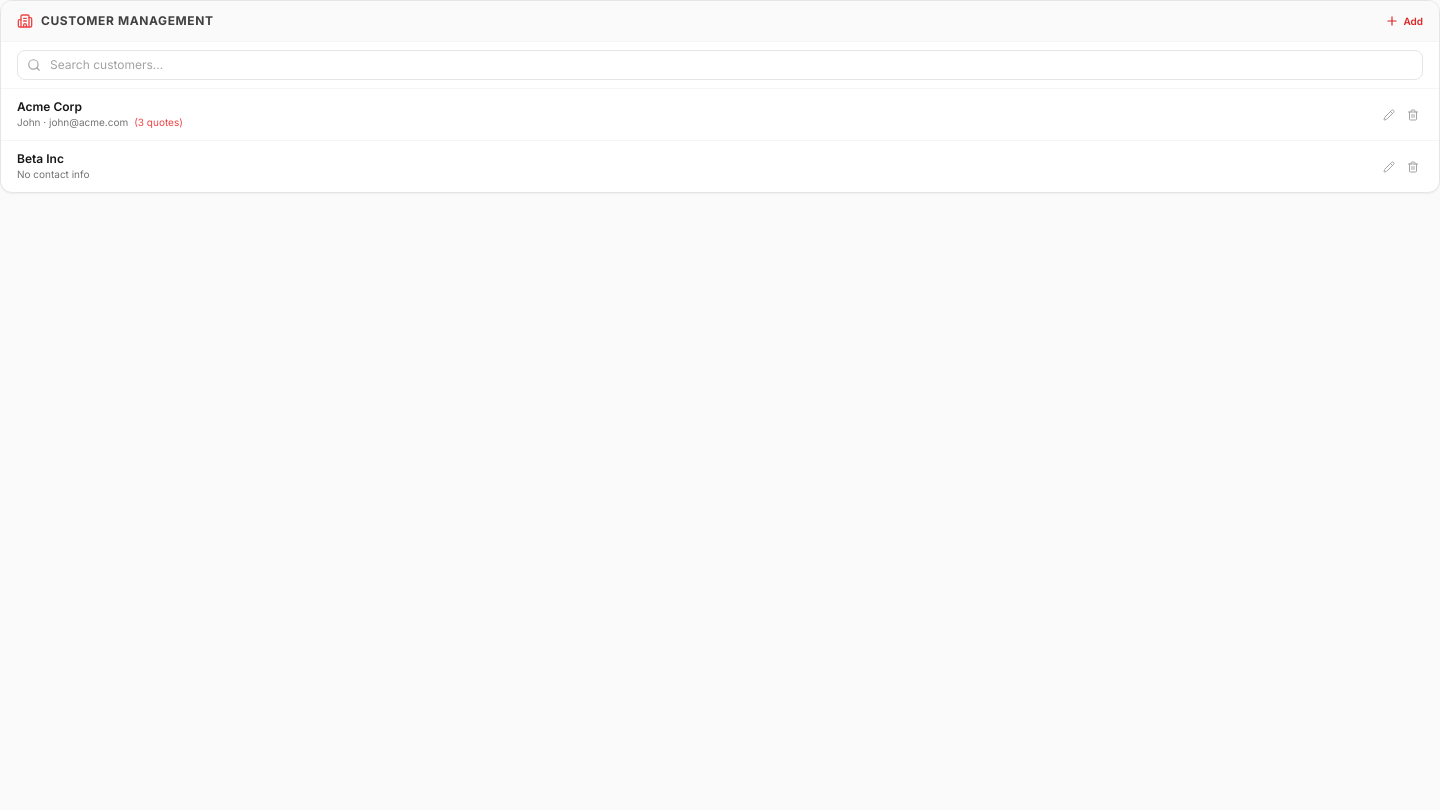
Scenario: CustomerManagement › displays error when delete fails
The width and height of the screenshot is (1440, 810).
Expected: the text "Acme Corp" is shown, [17,99,82,114]
Click delete to open confirm dialog
Click the button named "Delete Acme Corp" at {"x": 1413, "y": 114}, box [1403,104,1423,124]
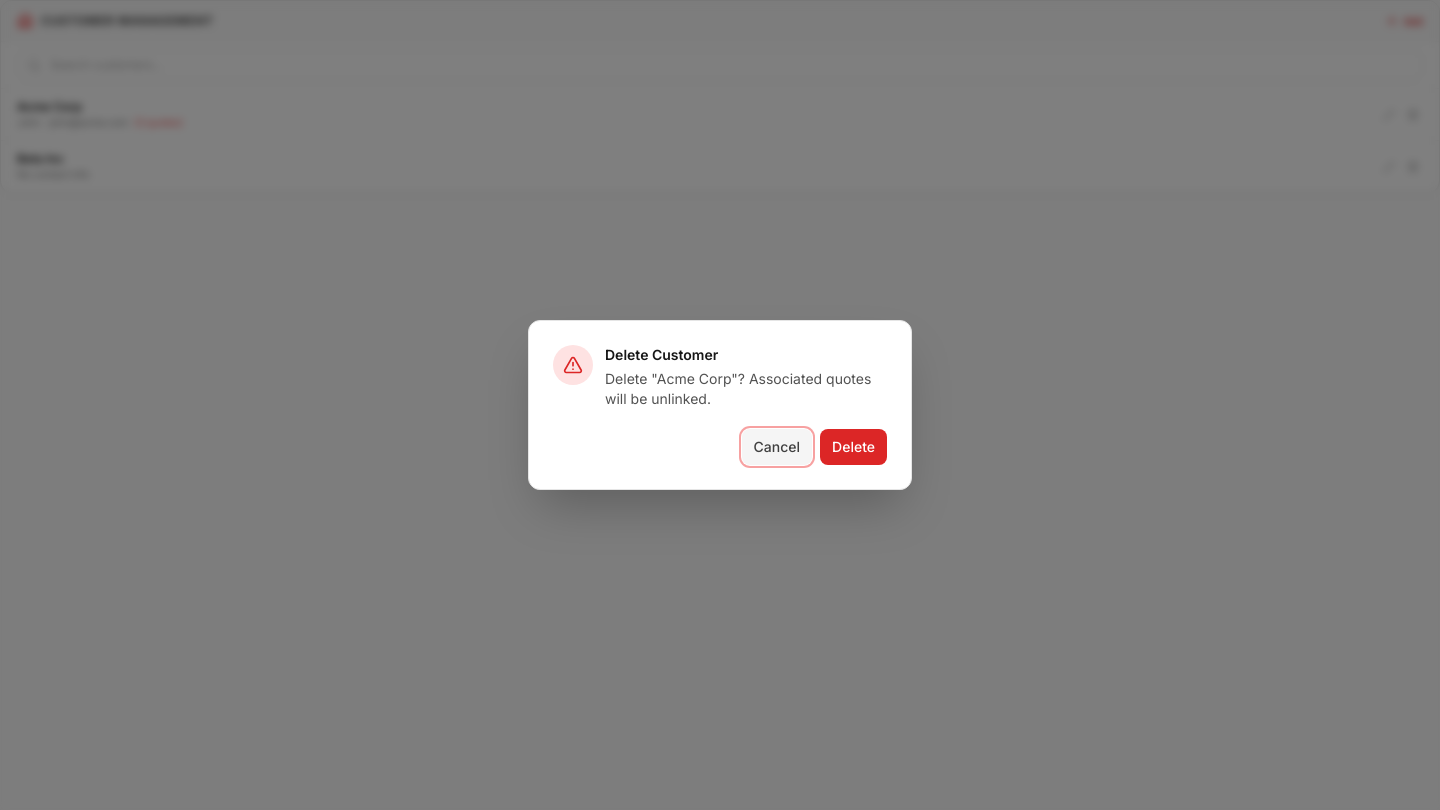
Click the confirm button in the dialog
Click the button "Delete" at {"x": 854, "y": 447}, box [820,429,887,465]
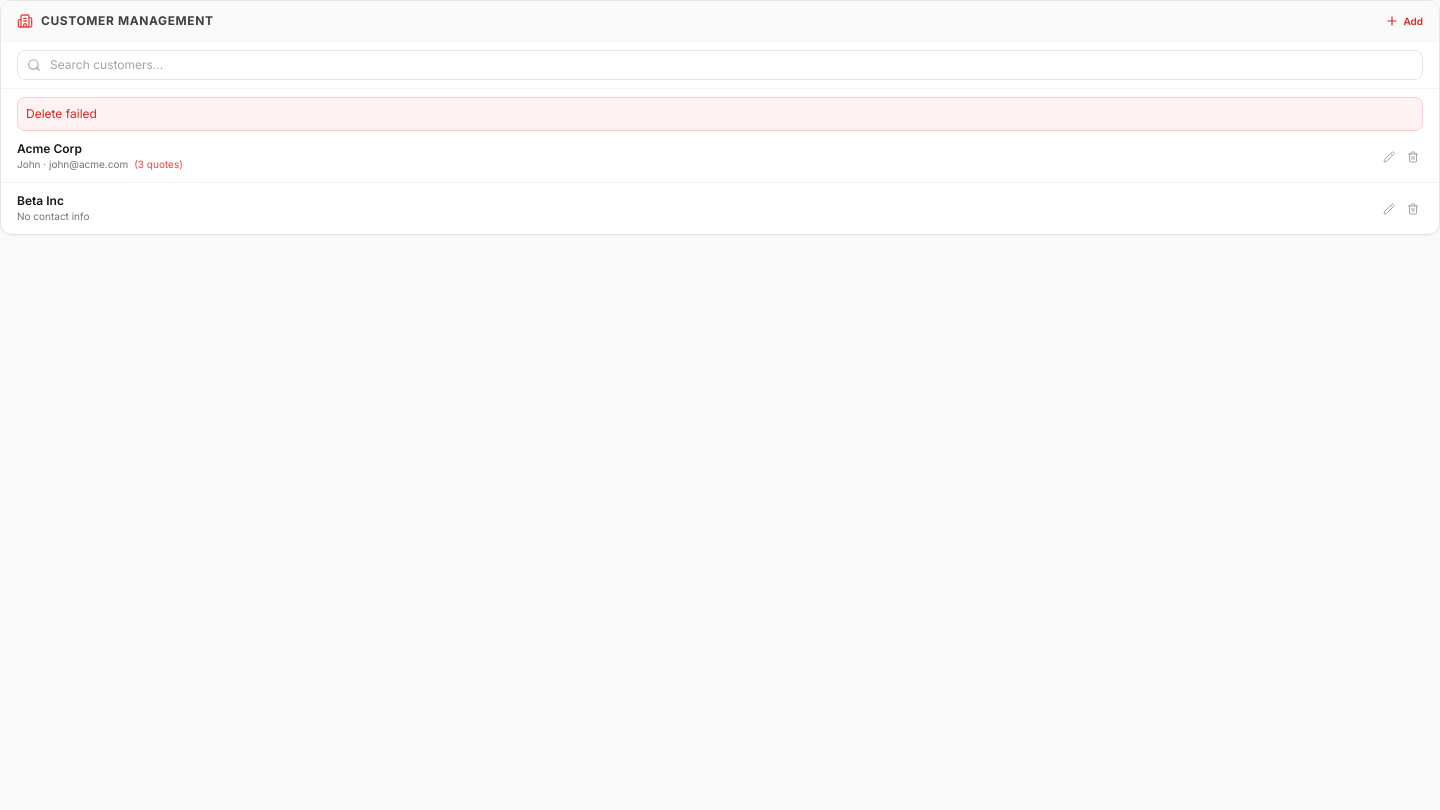
Expected: the text "Delete failed" is shown, [17,97,1423,131]
